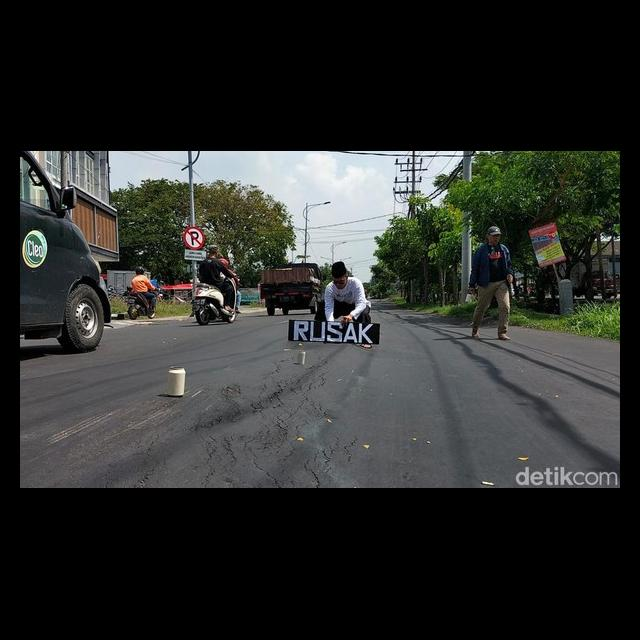retak_kulit_buaya: (205, 366, 333, 488)
